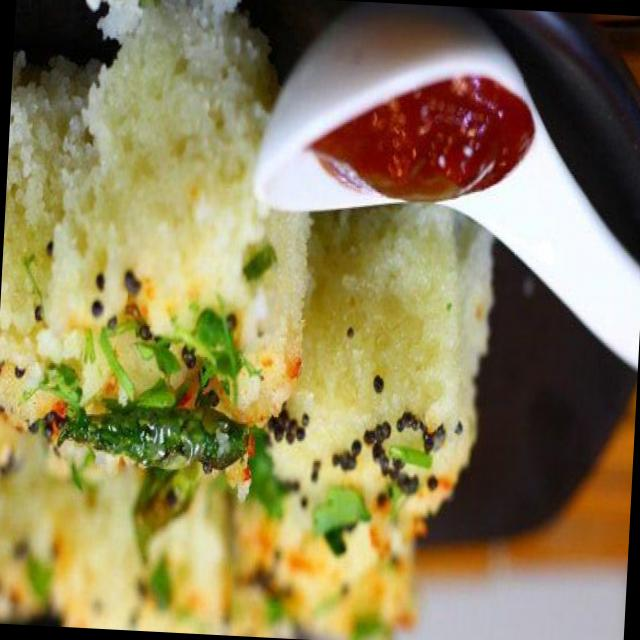dhokla: (0, 0, 506, 640)
